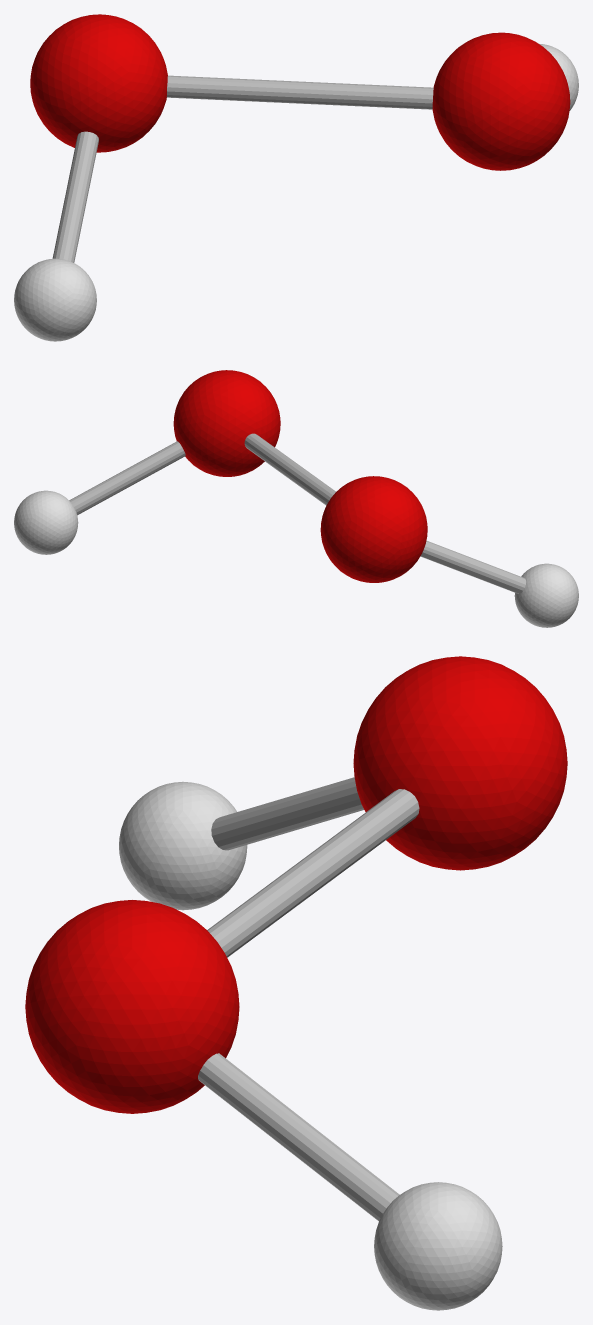
The picture shows the model from 3 angles, top to bottom: view 1: azimuth 30°, elevation 25°; view 2: azimuth 150°, elevation 25°; view 3: azimuth 270°, elevation 25°; orthographic projection. The views are drawn at different scales.
Visible parts, largest first — view 1: world; view 2: world; view 3: world.
Part boxes in pixels (<box>): world: <box>14,14,578,341</box>; world: <box>14,370,578,627</box>; world: <box>25,656,567,1310</box>.
Size of the model in its own units: 2.66 by 0.8724 by 1.27.
